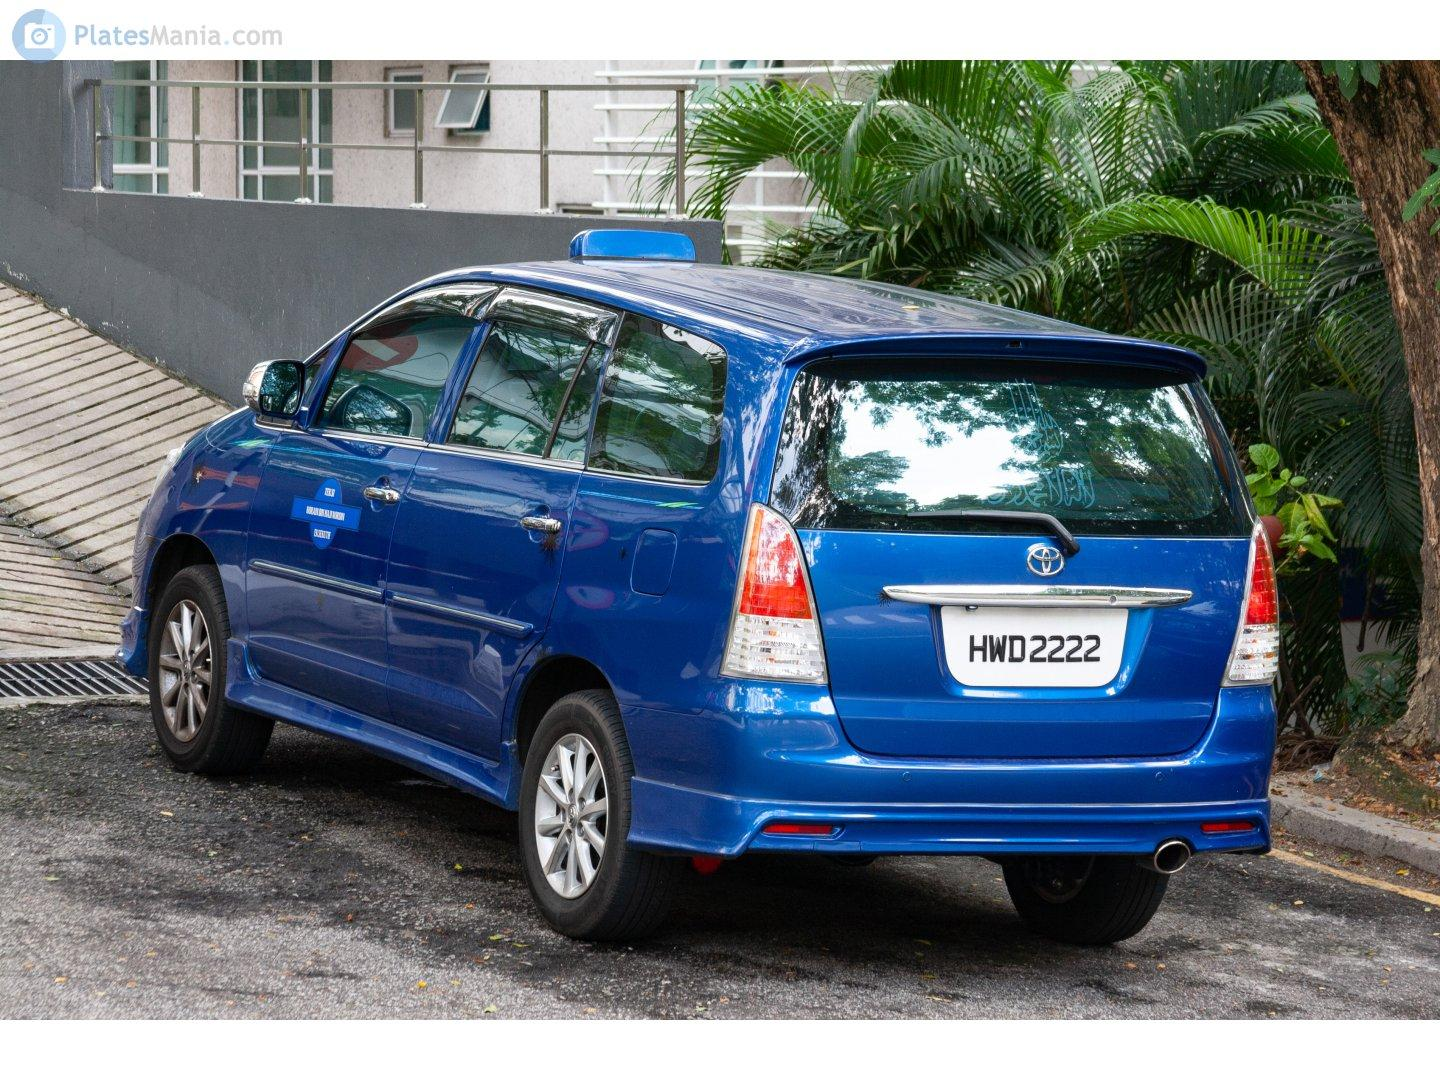License Plate: (959, 609, 1114, 686)
